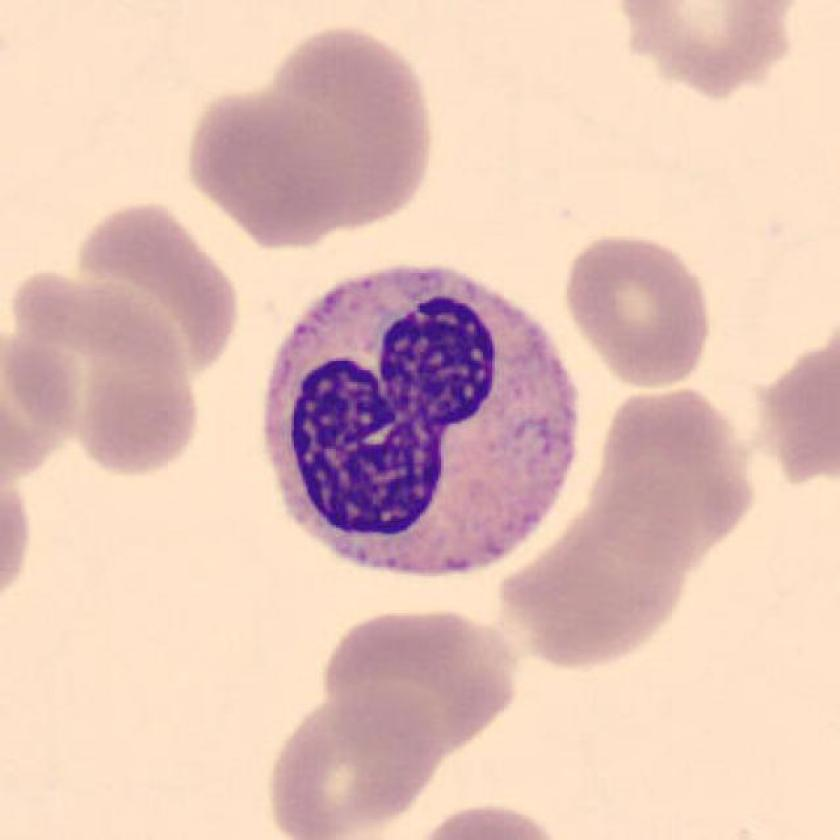neutrophil: (265, 266, 576, 572)
